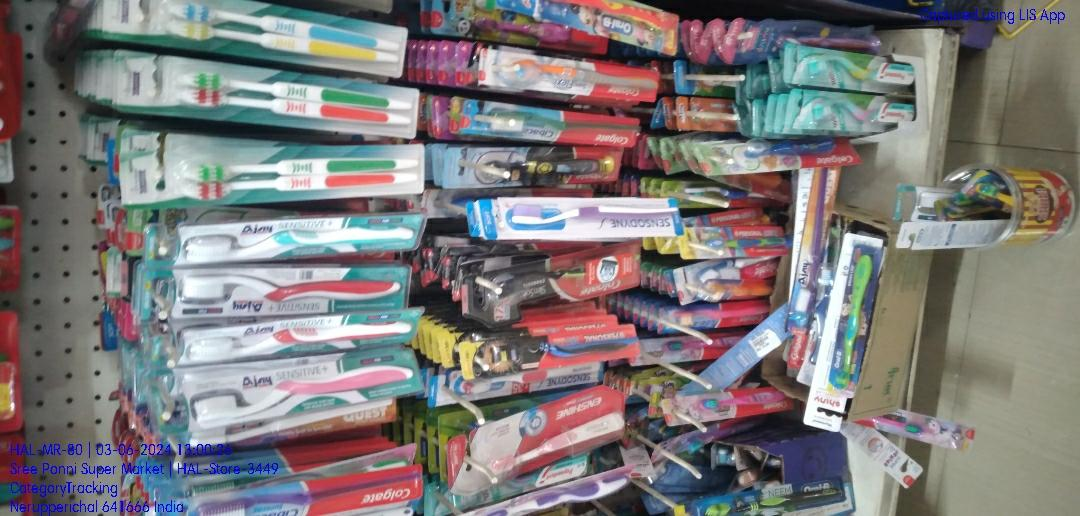soap: (404, 222, 552, 305)
